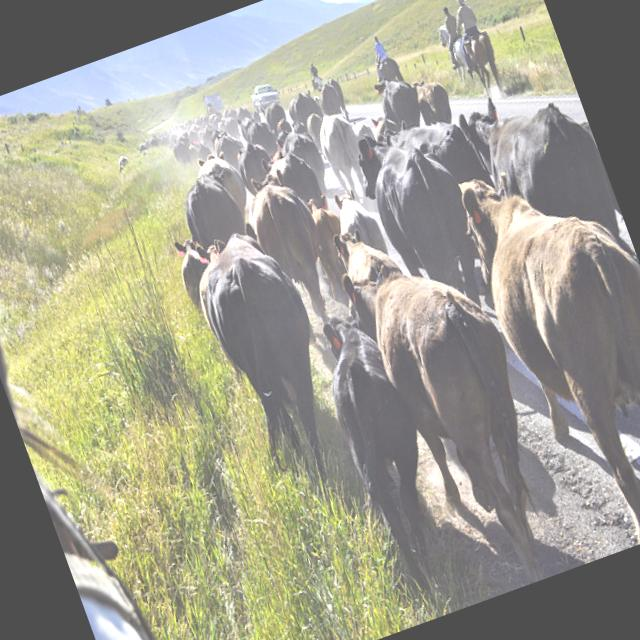Vehicle: (248, 81, 284, 118)
